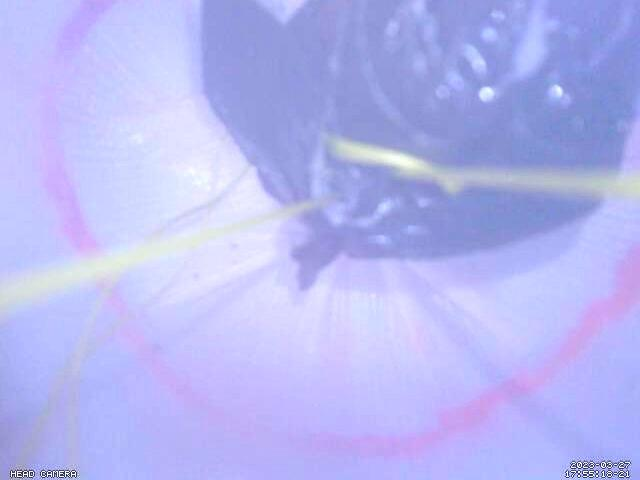head: (32, 1, 640, 459)
